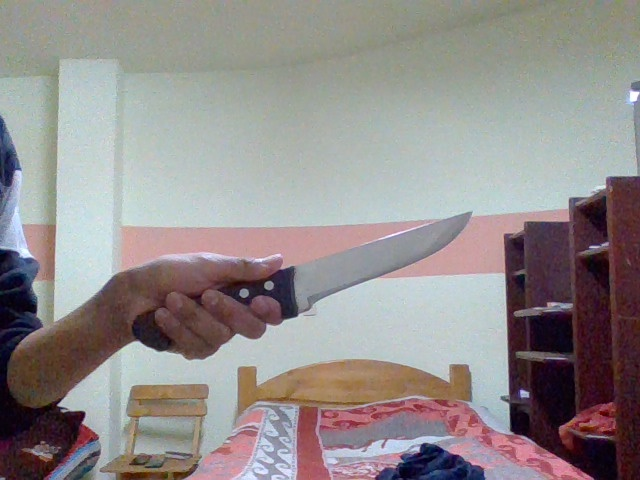cuchillo: (126, 208, 481, 362)
